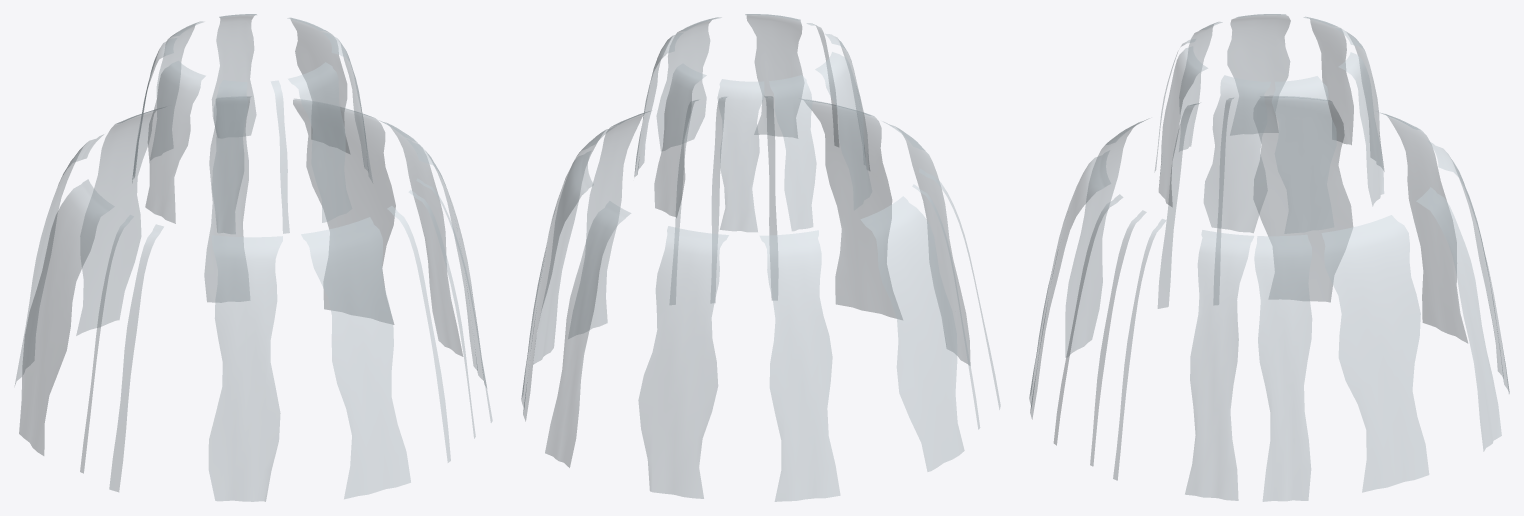
3 renders of one model, left to right at view 1: azimuth 30°, elevation 25°; view 2: azimuth 150°, elevation 25°; view 3: azimuth 270°, elevation 25°, orthographic.
Visible parts, largest first — view 1: Cascade; view 2: Cascade; view 3: Cascade.
Part boxes in pixels (<box>): Cascade: <box>15,14,492,501</box>; Cascade: <box>521,14,1000,501</box>; Cascade: <box>1029,14,1509,501</box>.
Bounding box in the file's own units: 3.06 × 2.49 × 3.07.
